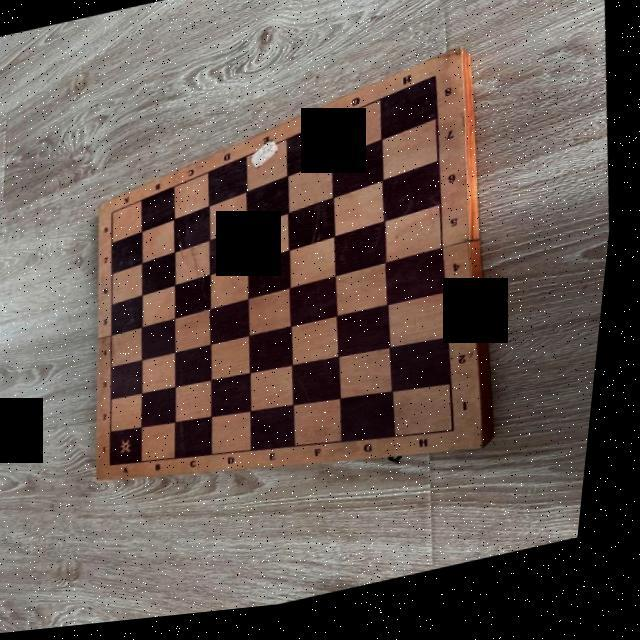chess-table-corners: (431, 81, 442, 91), (455, 437, 467, 445), (110, 211, 120, 220), (116, 464, 123, 472)
